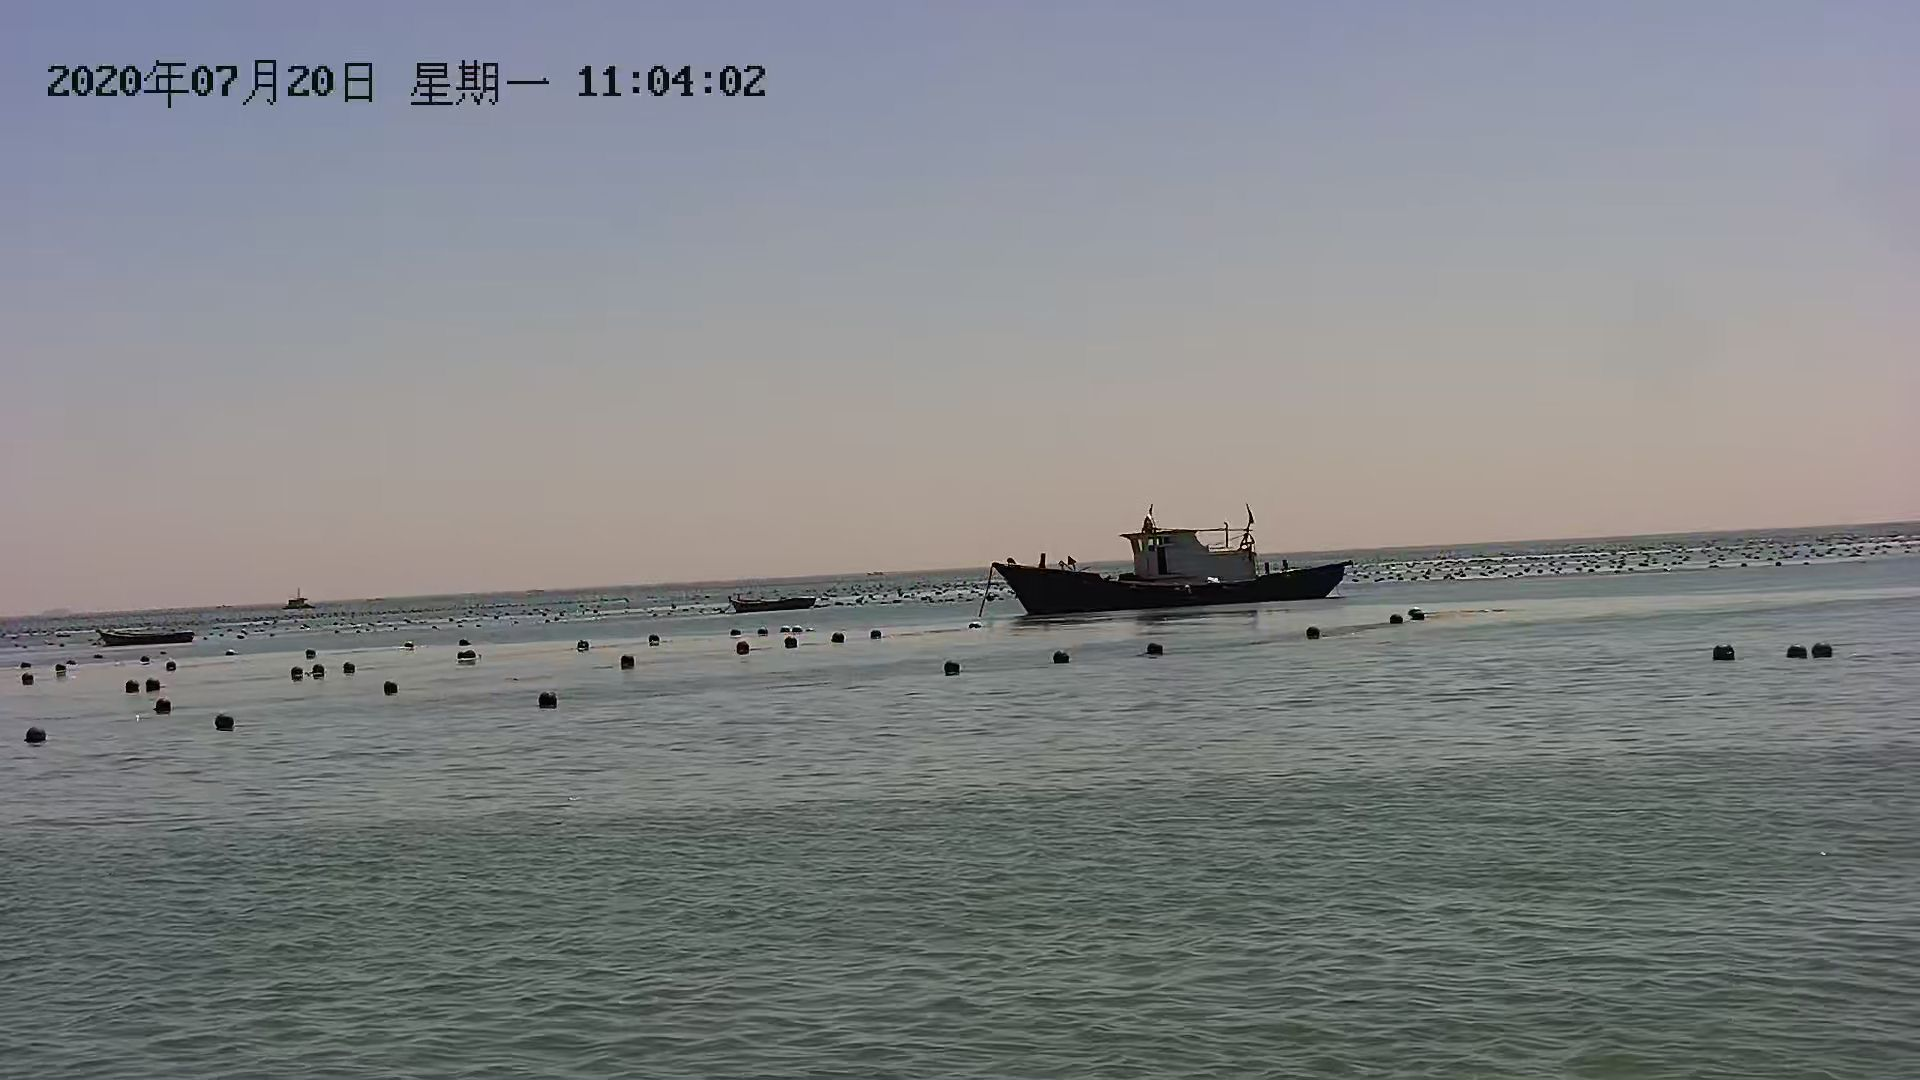ball: (1298, 618, 1328, 647), (1048, 642, 1079, 671), (935, 654, 965, 683), (531, 684, 562, 713), (608, 646, 638, 675), (208, 704, 239, 733), (21, 721, 51, 750), (107, 667, 137, 696), (21, 657, 51, 686), (135, 669, 165, 698), (278, 657, 309, 686), (301, 659, 331, 688), (334, 657, 364, 686), (822, 624, 852, 653), (868, 622, 898, 651), (1385, 599, 1415, 628), (1403, 597, 1433, 626), (1771, 640, 1808, 663), (1803, 641, 1840, 665), (378, 673, 407, 702), (150, 690, 179, 719), (458, 641, 487, 670), (723, 637, 752, 666), (775, 624, 804, 653), (1141, 632, 1171, 659), (1706, 642, 1743, 665)
boat: (728, 601, 825, 617), (99, 626, 196, 642)
ship: (990, 526, 1349, 615)
